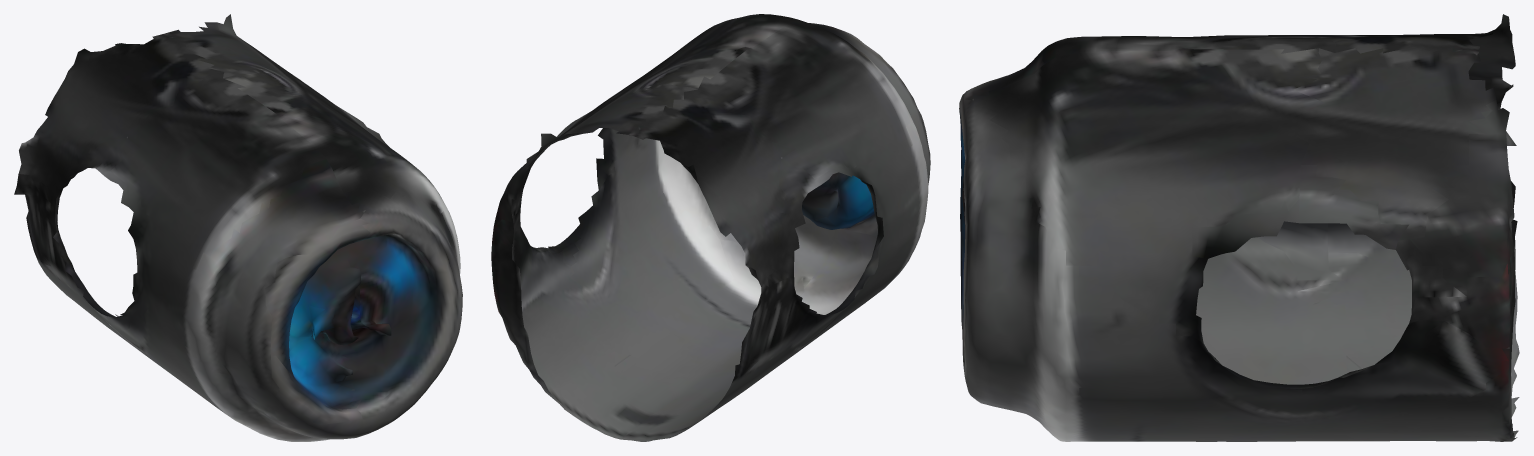
Rendered from cam.glb.
The picture shows the model from 3 angles, left to right: view 1: azimuth 30°, elevation 25°; view 2: azimuth 150°, elevation 25°; view 3: azimuth 270°, elevation 25°; orthographic projection. The views are drawn at different scales.
Parts seen in each view (by area): view 1: Mesh_0; view 2: Mesh_0; view 3: Mesh_0.
Part boxes in pixels (bbox=[...]): Mesh_0: bbox=[14, 14, 462, 441]; Mesh_0: bbox=[491, 14, 930, 441]; Mesh_0: bbox=[959, 14, 1519, 441].
Size of the model in its own units: 0.2045 by 0.2005 by 0.2681.
Materials: 1 (1 with a texture image).
